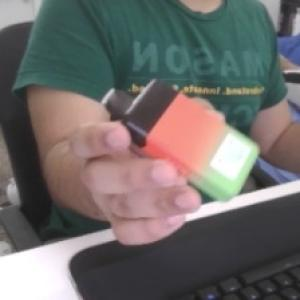Swift-E-Ciggirate: (98, 76, 264, 201)
